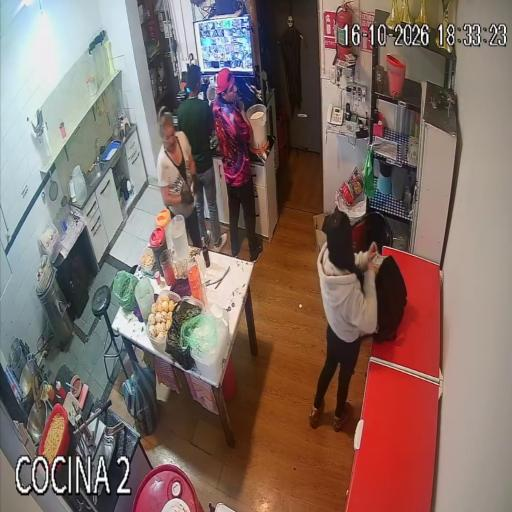Envase Ketchup: (56, 381, 65, 400)
Envase Llajua: (43, 383, 54, 402)
Jarra1: (150, 227, 167, 273)
Jarra2: (156, 209, 172, 247)
Jarra3: (171, 215, 189, 261)
Jarra4: (134, 278, 154, 321)
Persona1: (212, 68, 263, 262)
Persona3: (157, 109, 201, 246)
Persona4: (178, 65, 227, 251)
Persona5: (309, 210, 378, 431)
Taper: (40, 223, 61, 264)
Taper2: (181, 304, 230, 381)
Taper3: (166, 297, 203, 369)
Taper4: (146, 290, 180, 351)
